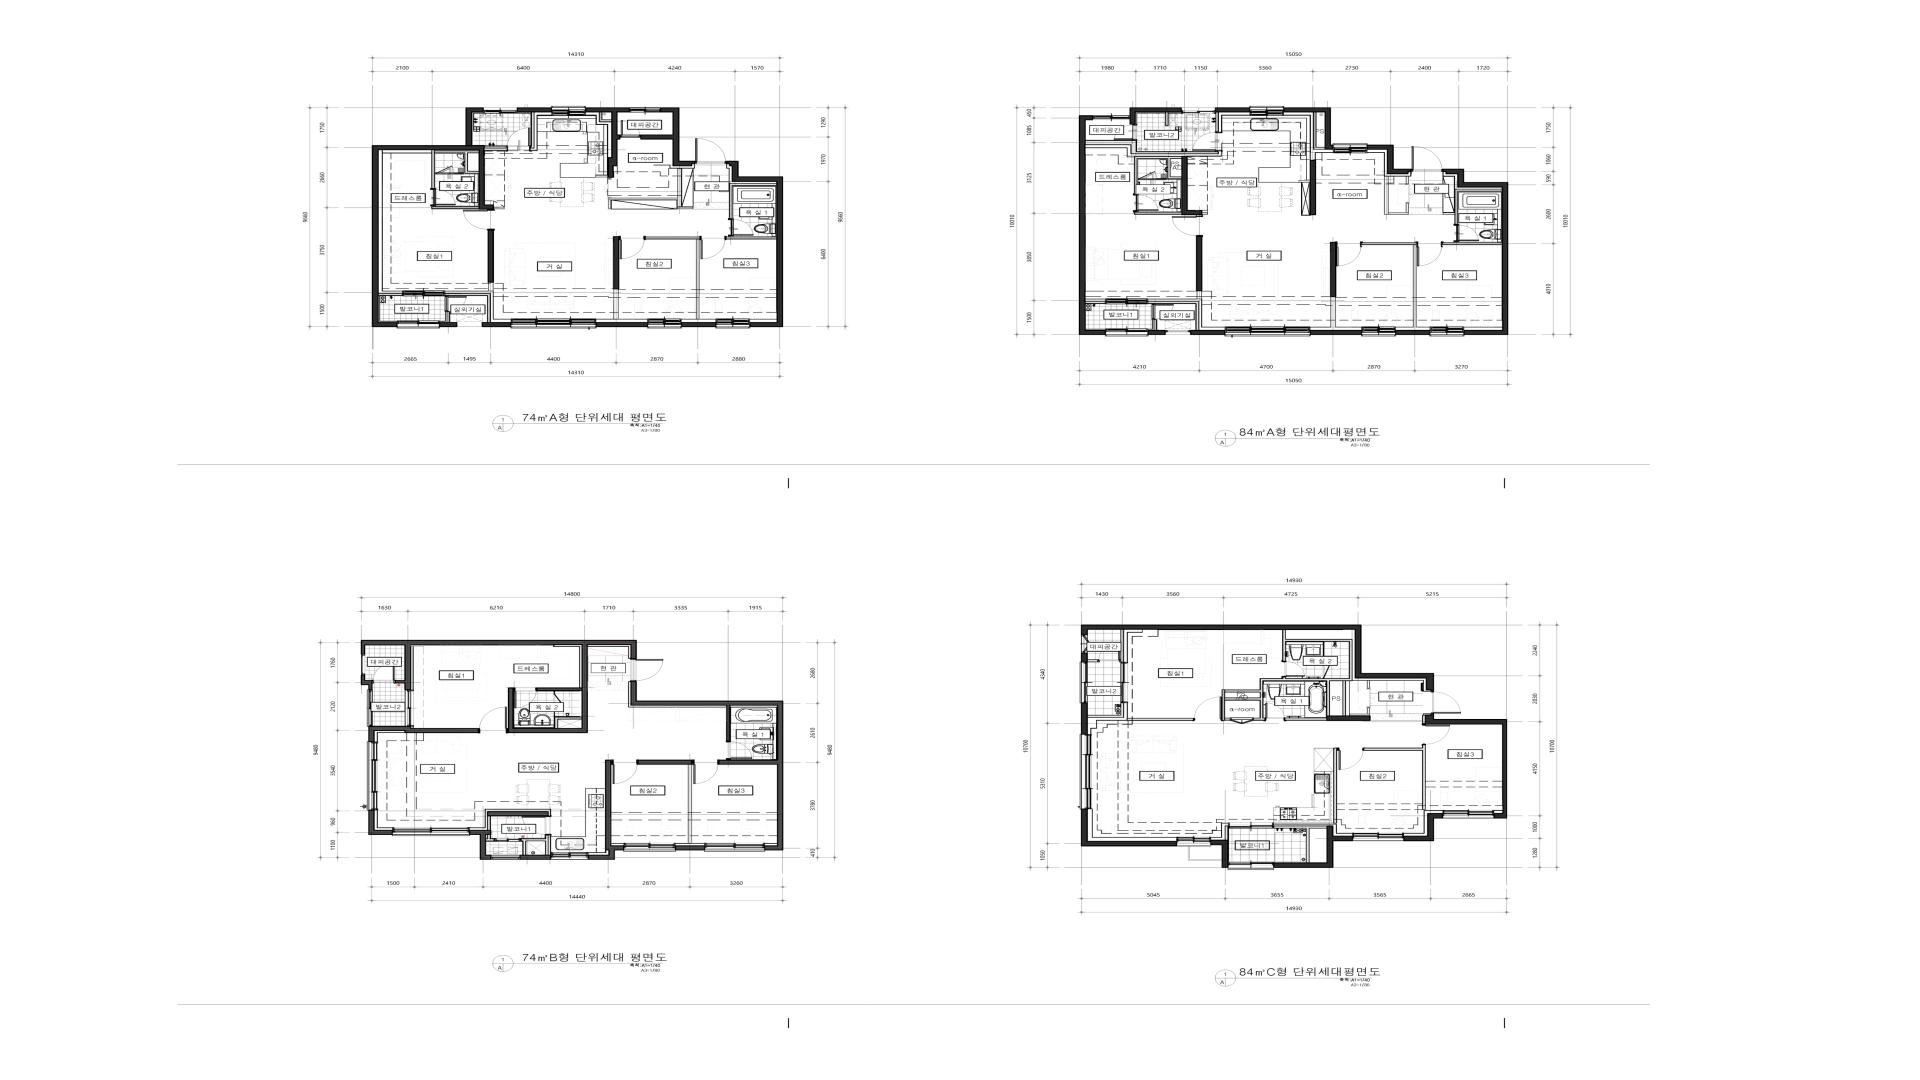door: (655, 708, 687, 735), (732, 661, 764, 687), (1470, 196, 1503, 222), (658, 127, 691, 152), (1470, 736, 1503, 761), (1160, 222, 1195, 245), (1160, 762, 1195, 786), (596, 274, 629, 298), (430, 781, 463, 804), (1385, 137, 1415, 158), (439, 318, 465, 342), (597, 814, 624, 837), (1302, 150, 1331, 171), (534, 135, 563, 156), (1302, 690, 1331, 711), (409, 696, 438, 717), (1385, 678, 1415, 698), (678, 814, 704, 836), (1408, 256, 1435, 278), (1328, 256, 1354, 278), (1408, 795, 1435, 818), (1328, 795, 1354, 818), (534, 199, 563, 219), (447, 269, 472, 291), (570, 711, 597, 729), (596, 198, 624, 215), (1364, 208, 1386, 228), (1364, 749, 1386, 769), (1139, 202, 1164, 219), (625, 253, 650, 270), (1139, 741, 1164, 758), (409, 761, 434, 778), (712, 796, 737, 814), (642, 356, 666, 372), (1113, 851, 1137, 866), (382, 869, 406, 885), (1113, 311, 1137, 326), (425, 347, 463, 355), (1369, 127, 1406, 135), (1369, 667, 1406, 674), (1146, 178, 1163, 187), (414, 737, 431, 746), (626, 231, 644, 239), (1146, 719, 1163, 727), (1427, 720, 1451, 725), (585, 786, 612, 790), (369, 752, 396, 756), (1101, 193, 1126, 196), (1319, 227, 1344, 231), (1319, 766, 1344, 770), (1427, 181, 1451, 185), (611, 125, 637, 128), (658, 245, 683, 248), (1101, 733, 1126, 736)
wall: (596, 152, 741, 388), (609, 617, 732, 738), (446, 58, 661, 127), (687, 732, 770, 909), (1466, 222, 1540, 363), (1466, 761, 1540, 902), (549, 691, 628, 787), (1451, 128, 1540, 196), (1072, 663, 1100, 882), (1451, 669, 1540, 736), (1072, 124, 1100, 342), (342, 683, 368, 901), (603, 167, 663, 253), (1354, 795, 1408, 881), (1354, 256, 1408, 342), (624, 815, 678, 901), (1280, 711, 1357, 767), (1280, 171, 1357, 228), (463, 156, 562, 199), (1364, 164, 1427, 228), (1364, 704, 1427, 767), (411, 683, 504, 721), (704, 765, 764, 818), (758, 617, 796, 687), (396, 723, 463, 761), (1349, 124, 1411, 162), (1349, 663, 1411, 702), (612, 732, 653, 787), (700, 761, 764, 796), (462, 320, 493, 388), (1141, 164, 1195, 202), (1141, 703, 1195, 741), (1141, 727, 1188, 762), (409, 746, 456, 781), (1141, 187, 1188, 222), (400, 214, 459, 240), (400, 302, 426, 353), (1344, 711, 1365, 769), (1344, 171, 1365, 228), (770, 624, 785, 687), (700, 725, 804, 732), (1126, 124, 1236, 129), (1126, 663, 1236, 669), (1170, 848, 1189, 877), (1170, 307, 1189, 336), (438, 866, 458, 895), (1323, 795, 1329, 881), (1323, 256, 1329, 342), (591, 815, 597, 901), (438, 895, 480, 909), (1170, 336, 1211, 349), (463, 219, 562, 224), (1170, 877, 1211, 889), (601, 353, 616, 382), (456, 804, 463, 864), (596, 215, 603, 274), (1188, 245, 1195, 305), (1188, 786, 1195, 844), (1303, 671, 1321, 690), (1303, 132, 1321, 150), (596, 298, 603, 349), (394, 683, 417, 696), (1270, 124, 1324, 129), (1270, 663, 1324, 669), (410, 309, 436, 319), (456, 742, 463, 782), (1188, 183, 1195, 222), (1188, 724, 1195, 762), (596, 108, 611, 125), (538, 683, 583, 688), (655, 903, 695, 909), (1387, 344, 1427, 349), (1387, 884, 1427, 889), (472, 269, 476, 319), (1406, 128, 1424, 138), (579, 382, 616, 388), (603, 270, 650, 274), (764, 725, 770, 753), (1406, 669, 1424, 678), (574, 903, 604, 909), (1305, 344, 1336, 349), (1305, 884, 1336, 889), (452, 149, 459, 173), (1080, 307, 1118, 311), (349, 866, 386, 870), (1191, 671, 1195, 703), (1191, 132, 1195, 164), (661, 158, 741, 160), (558, 108, 562, 135), (1080, 848, 1118, 851), (409, 269, 447, 272), (662, 353, 699, 356), (421, 320, 439, 326), (400, 268, 406, 281), (1435, 795, 1466, 798), (1435, 256, 1466, 258), (570, 691, 574, 711), (661, 372, 666, 382), (1085, 760, 1105, 762), (679, 272, 699, 274), (661, 382, 670, 388), (378, 895, 386, 901), (382, 885, 386, 895), (1085, 732, 1101, 735), (1114, 866, 1118, 877), (1110, 336, 1118, 342), (683, 244, 699, 247), (1114, 326, 1118, 336), (1358, 164, 1364, 171), (1110, 877, 1118, 882), (1126, 732, 1141, 735), (1358, 704, 1364, 711), (650, 741, 653, 753), (353, 779, 375, 781), (1451, 720, 1461, 723), (1085, 220, 1105, 222), (353, 752, 369, 753), (1085, 193, 1101, 194), (1126, 193, 1141, 194), (637, 124, 650, 125), (1451, 181, 1461, 182)
window: (1211, 880, 1305, 890), (1211, 340, 1305, 351), (480, 899, 574, 910), (493, 378, 579, 385), (695, 899, 746, 909), (1336, 880, 1387, 889), (1336, 340, 1387, 349), (604, 899, 655, 909), (1427, 880, 1477, 889), (1427, 340, 1477, 349), (1118, 877, 1170, 884), (1118, 843, 1170, 849), (1118, 336, 1170, 343), (1118, 303, 1170, 310), (493, 385, 579, 389), (386, 862, 438, 869), (386, 895, 438, 902), (456, 171, 464, 214), (456, 108, 464, 149), (1236, 663, 1270, 673), (1236, 124, 1270, 133), (504, 683, 538, 692), (417, 682, 455, 688), (583, 683, 609, 692), (1100, 663, 1126, 673), (1424, 669, 1451, 678), (616, 349, 662, 355), (1100, 124, 1126, 133), (368, 683, 394, 692), (1324, 663, 1349, 673), (1324, 124, 1349, 133), (1424, 129, 1451, 137), (729, 617, 758, 624), (404, 240, 410, 268), (616, 382, 661, 386), (452, 173, 456, 214), (452, 109, 456, 149), (1084, 877, 1110, 882), (1084, 336, 1110, 342), (404, 281, 410, 302), (352, 895, 378, 901), (670, 382, 695, 388), (616, 386, 661, 389), (400, 240, 404, 268), (400, 281, 404, 302)
